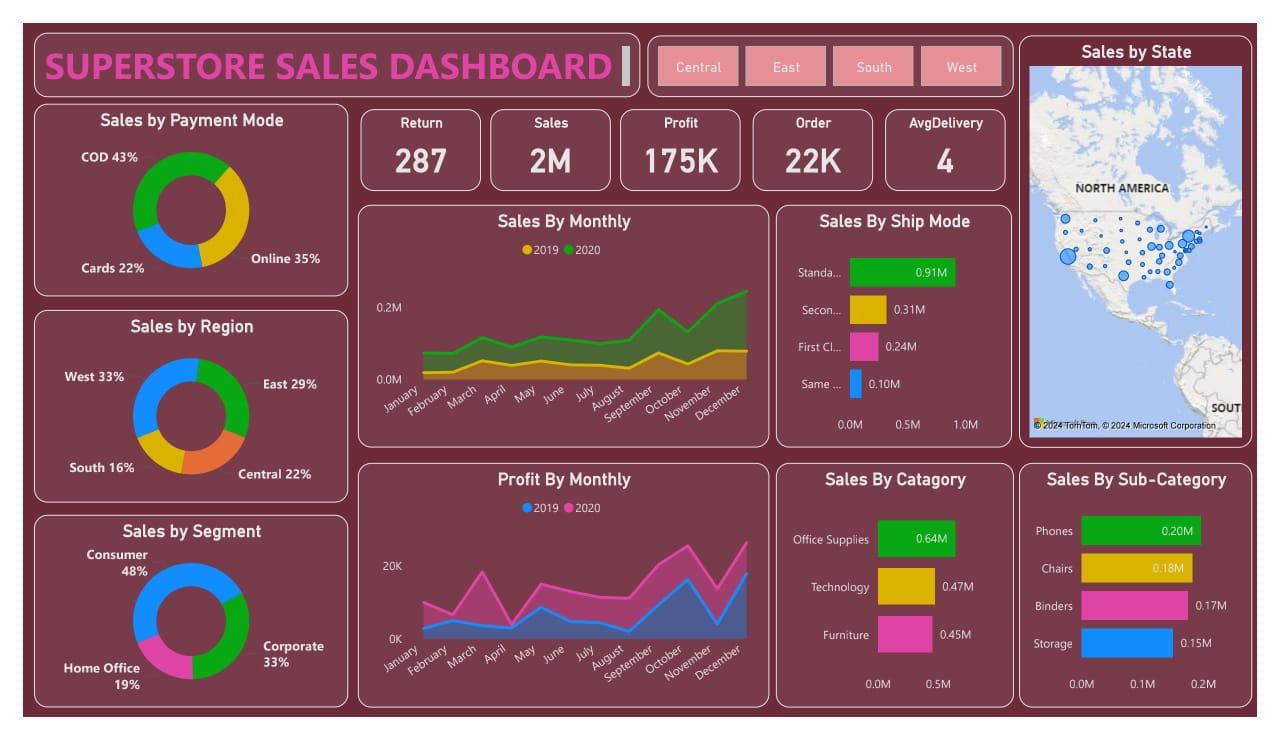

This screenshot's page, from the dashboard's own definition file:
{"tool":"powerbi","page":{"name":"Page 1","canvas":[1280,720],"ordinal":0},"visuals":[{"type":"stackedAreaChart","title":"Profit By Monthly ","fields":{"Category":["SuperStore_Sales_Dataset.Order Date.Variation.Date Hierarchy.Month"],"Y":["Sum(SuperStore_Sales_Dataset.Profit)"],"Series":["SuperStore_Sales_Dataset.Order Date.Variation.Date Hierarchy.Year"]},"box":[347.2,456.4,426.6,253.7],"z":0},{"type":"stackedAreaChart","title":"Sales By  Monthly ","fields":{"Category":["SuperStore_Sales_Dataset.Order Date.Variation.Date Hierarchy.Month"],"Y":["Sum(SuperStore_Sales_Dataset.Sales)"],"Series":["SuperStore_Sales_Dataset.Order Date.Variation.Date Hierarchy.Year"]},"box":[347.2,188.5,426.6,252.3],"z":1000},{"type":"clusteredBarChart","title":"Sales By Catagory","fields":{"Category":["SuperStore_Sales_Dataset.Category"],"Y":["Sum(SuperStore_Sales_Dataset.Sales)"]},"box":[780.9,456.4,246.6,253.7],"z":2000},{"type":"clusteredBarChart","title":"Sales By Ship Mode","fields":{"Category":["SuperStore_Sales_Dataset.Ship Mode"],"Y":["Sum(SuperStore_Sales_Dataset.Sales)"]},"box":[780.9,188.5,245.2,252.3],"z":3000},{"type":"clusteredBarChart","title":"Sales By Sub-Category","fields":{"Category":["SuperStore_Sales_Dataset.Sub-Category"],"Y":["Sum(SuperStore_Sales_Dataset.Sales)"]},"box":[1033.2,456.4,242.4,253.7],"z":4000},{"type":"donutChart","title":"Sales by Region","fields":{"Y":["Sum(SuperStore_Sales_Dataset.Sales)"],"Category":["SuperStore_Sales_Dataset.Region"]},"box":[11.3,297.6,326,199.8],"z":5000},{"type":"donutChart","title":"Sales by Payment Mode","fields":{"Category":["SuperStore_Sales_Dataset.Payment Mode"],"Y":["Sum(SuperStore_Sales_Dataset.Sales)"]},"box":[11.3,83.6,326,199.8],"z":6000},{"type":"map","title":"Sales by State","fields":{"Category":["SuperStore_Sales_Dataset.State"],"Size":["Sum(SuperStore_Sales_Dataset.Sales)"]},"box":[1033.2,12.8,242.4,428],"z":7000},{"type":"card","title":"Sales","fields":{"Values":["Sum(SuperStore_Sales_Dataset.Sales)"]},"box":[484.7,89.3,124.7,85],"z":8000},{"type":"card","title":"Profit","fields":{"Values":["Sum(SuperStore_Sales_Dataset.Profit)"]},"box":[619.4,89.3,124.7,85],"z":9000},{"type":"card","title":"Order","fields":{"Values":["Sum(SuperStore_Sales_Dataset.Quantity)"]},"box":[756.9,89.3,124.7,85],"z":10000},{"type":"card","title":"AvgDelivery","fields":{"Values":["Avg(SuperStore_Sales_Dataset.AvgDelivery)"]},"box":[894.3,89.3,124.7,85],"z":11000},{"type":"card","title":"Return","fields":{"Values":["Sum(SuperStore_Sales_Dataset.Returns)"]},"box":[350.1,89.3,125,85],"z":12000},{"type":"advancedSlicerVisual","fields":{"Values":["SuperStore_Sales_Dataset.Region"]},"box":[647.7,12.8,379.8,63.8],"z":13000},{"type":"textbox","title":"DASHBOARD","box":[11.3,9.9,629.3,66.6],"z":14000},{"type":"donutChart","title":"Sales by Segment","fields":{"Category":["SuperStore_Sales_Dataset.Segment"],"Y":["Sum(SuperStore_Sales_Dataset.Sales)"]},"box":[11.3,510.2,326,199.8],"z":15000}]}

Visuals, with their boxes in screenshot pixels (x1, y1, x2, y2), scaled from the page's 1280x720 canvas onto the 1280x740 screenshot:
"Profit By Monthly " stackedAreaChart: 347/469/774/730
"Sales By  Monthly " stackedAreaChart: 347/194/774/453
"Sales By Catagory" clusteredBarChart: 781/469/1028/730
"Sales By Ship Mode" clusteredBarChart: 781/194/1026/453
"Sales By Sub-Category" clusteredBarChart: 1033/469/1276/730
"Sales by Region" donutChart: 11/306/337/511
"Sales by Payment Mode" donutChart: 11/86/337/291
"Sales by State" map: 1033/13/1276/453
"Sales" card: 485/92/609/179
"Profit" card: 619/92/744/179
"Order" card: 757/92/882/179
"AvgDelivery" card: 894/92/1019/179
"Return" card: 350/92/475/179
advancedSlicerVisual - SuperStore_Sales_Dataset.Region: 648/13/1028/79
"DASHBOARD" textbox: 11/10/641/79
"Sales by Segment" donutChart: 11/524/337/730
